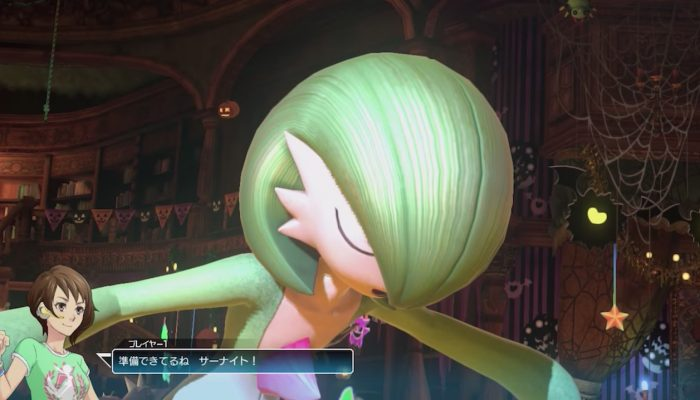gardevoir: (3, 52, 588, 400)
